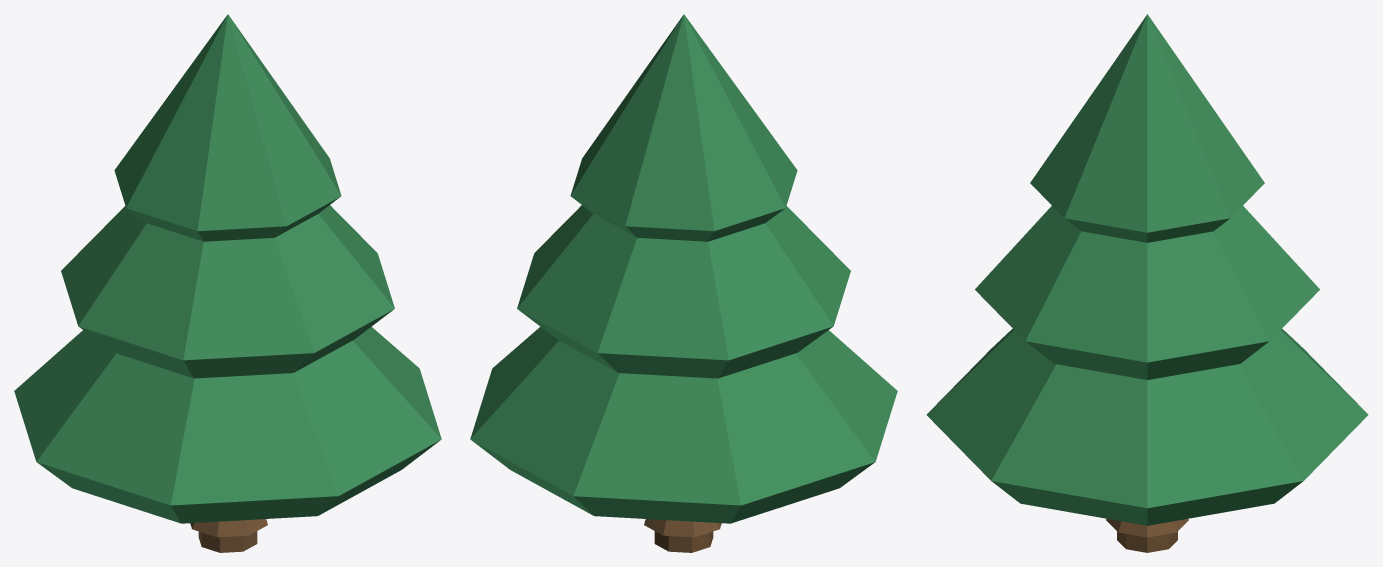
Rendered from tree-a.glb.
3 views of the same model, side by side, from view 1: azimuth 30°, elevation 25°; view 2: azimuth 150°, elevation 25°; view 3: azimuth 270°, elevation 25° (orthographic).
Visible parts, largest first — view 1: tree-a; view 2: tree-a; view 3: tree-a.
Boxes of the visible parts, <box> form: tree-a: <box>14,14,441,552</box>; tree-a: <box>470,14,897,552</box>; tree-a: <box>926,14,1368,552</box>.
Size of the model in its own units: 3.2 by 4.2 by 3.2.
